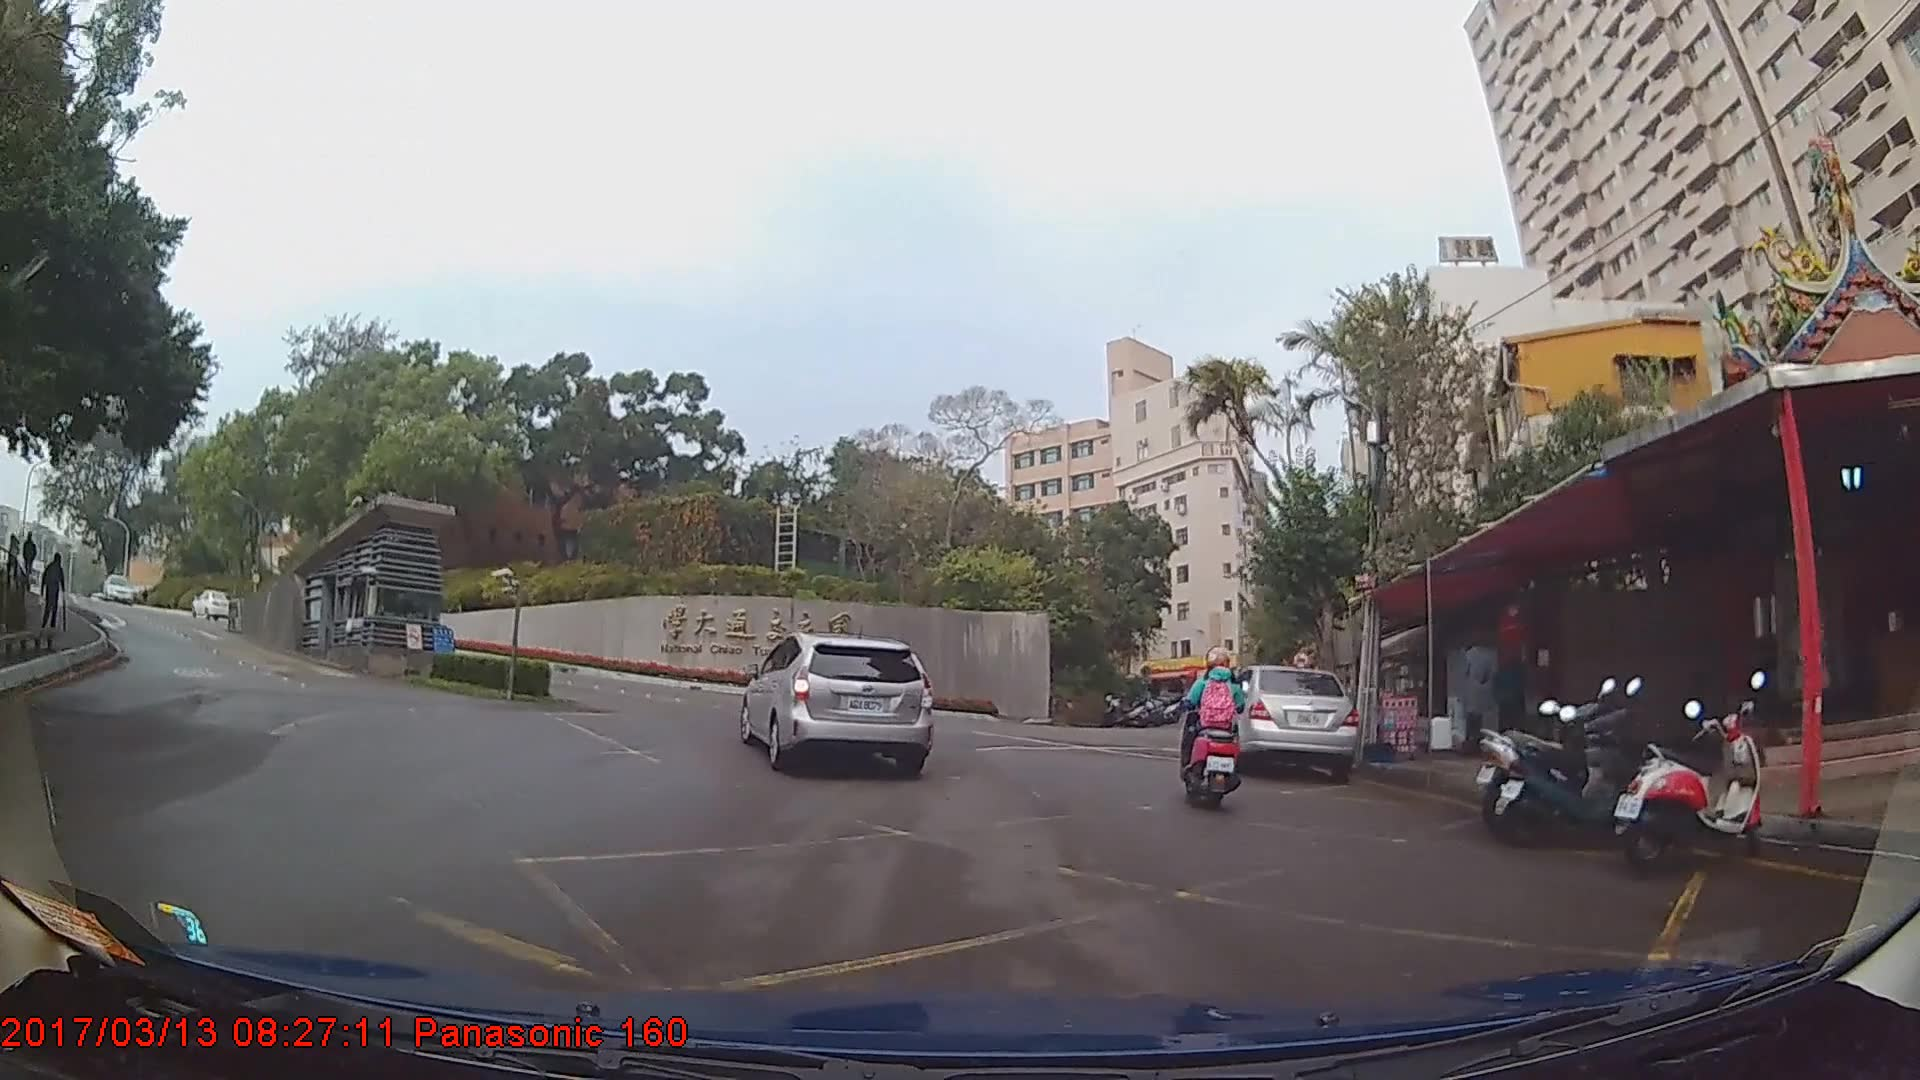pedestrian: (1491, 641, 1540, 764), (37, 556, 67, 632), (21, 529, 41, 593), (5, 534, 25, 582)
rider: (1175, 656, 1251, 822)
vehicle: (736, 630, 930, 776), (1210, 665, 1360, 781), (190, 590, 232, 621), (98, 574, 136, 606)
